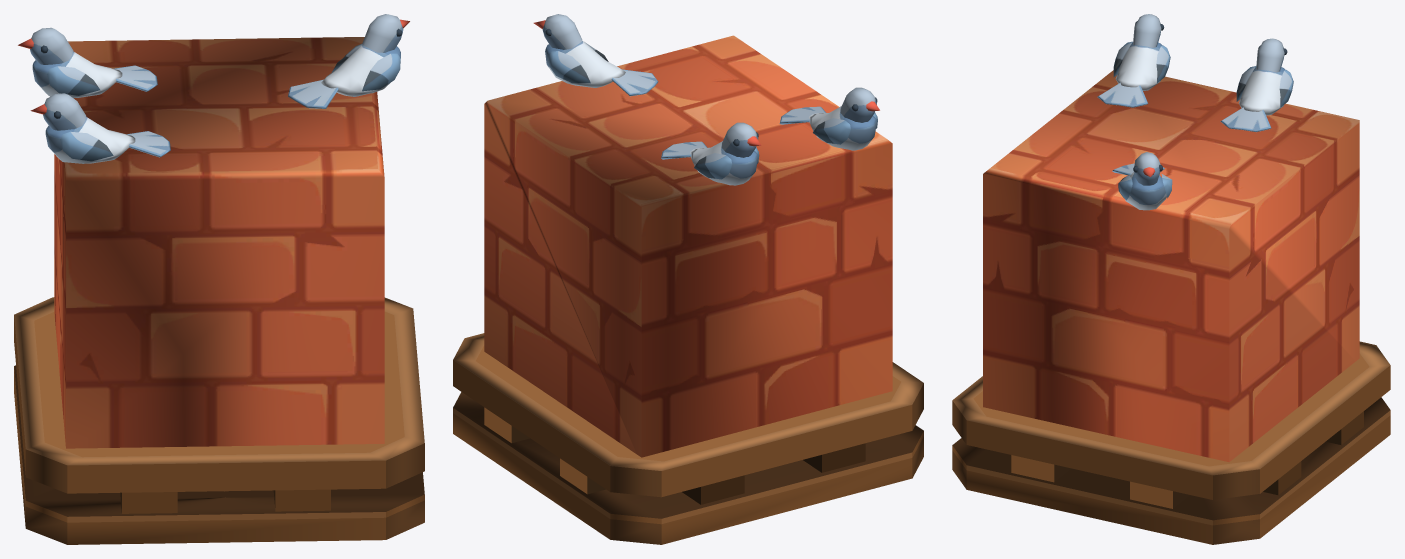
Rendered from AnotherBrickOdysseyStatue.fbx.
3 views of the same model, side by side, from view 1: azimuth 30°, elevation 25°; view 2: azimuth 150°, elevation 25°; view 3: azimuth 270°, elevation 25° (orthographic). The views are drawn at different scales.
Visible parts, largest first — view 1: AnotherBrickOdysseyStatue; view 2: AnotherBrickOdysseyStatue; view 3: AnotherBrickOdysseyStatue.
Part boxes in pixels (box(x1,y1,x2,y2)): AnotherBrickOdysseyStatue: box(14, 14, 424, 544); AnotherBrickOdysseyStatue: box(453, 14, 923, 544); AnotherBrickOdysseyStatue: box(952, 14, 1390, 544).
Size of the model in its own units: 16.23 by 14.82 by 16.21.
Materials: 1 (1 with a texture image).
